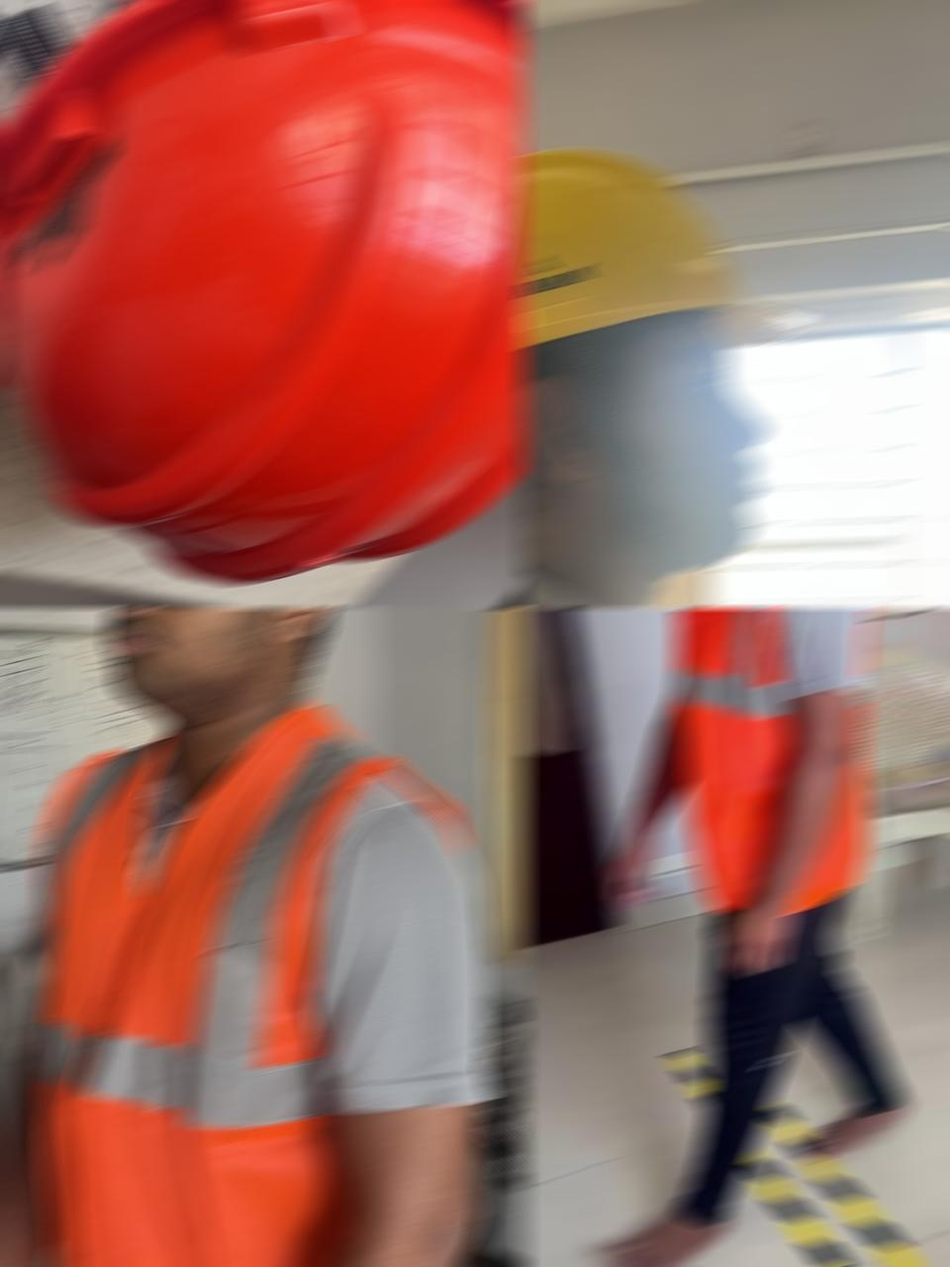BorderLine: (663, 1048, 950, 1266)
Helmet: (0, 1, 526, 586), (518, 149, 812, 573)
No_Helmet: (101, 609, 358, 718)
Person: (0, 609, 494, 1266), (605, 609, 913, 1266), (518, 149, 835, 607)
Vest: (25, 702, 494, 1266), (672, 609, 881, 915)
